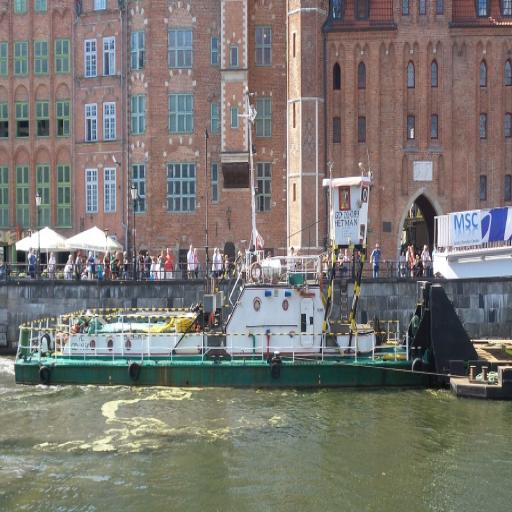tugboat: (12, 171, 455, 400)
